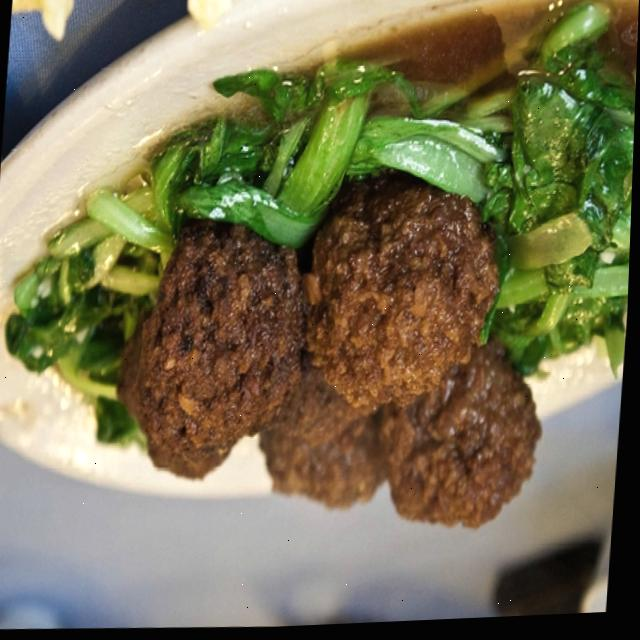猪肉菜式: (10, 15, 616, 592)
